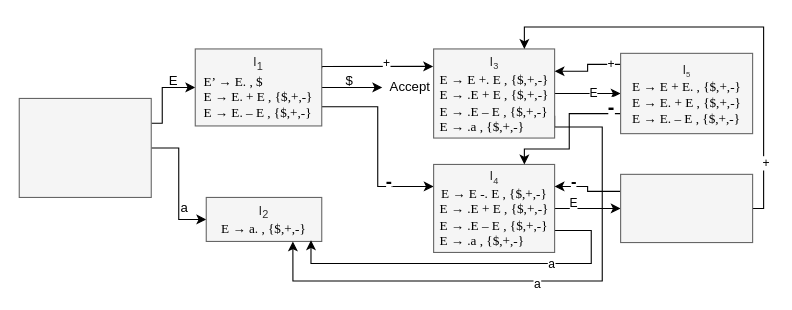
This 792x310 diagram has some shape labels left out. Here are the shapes that lost their labels. From the top down, the centre of each, then its label:
At (84,147): "I 0 E’ → .E , $ E → .E + E , {$.+,-} E → .E – E , {$,+,-} E → .a , {$,+,-}".
At (686,208): "I 6 E → E - E. , {$,+,-} E → E. + E , {$,+,-} E → E. – E , {$,+,-}".
